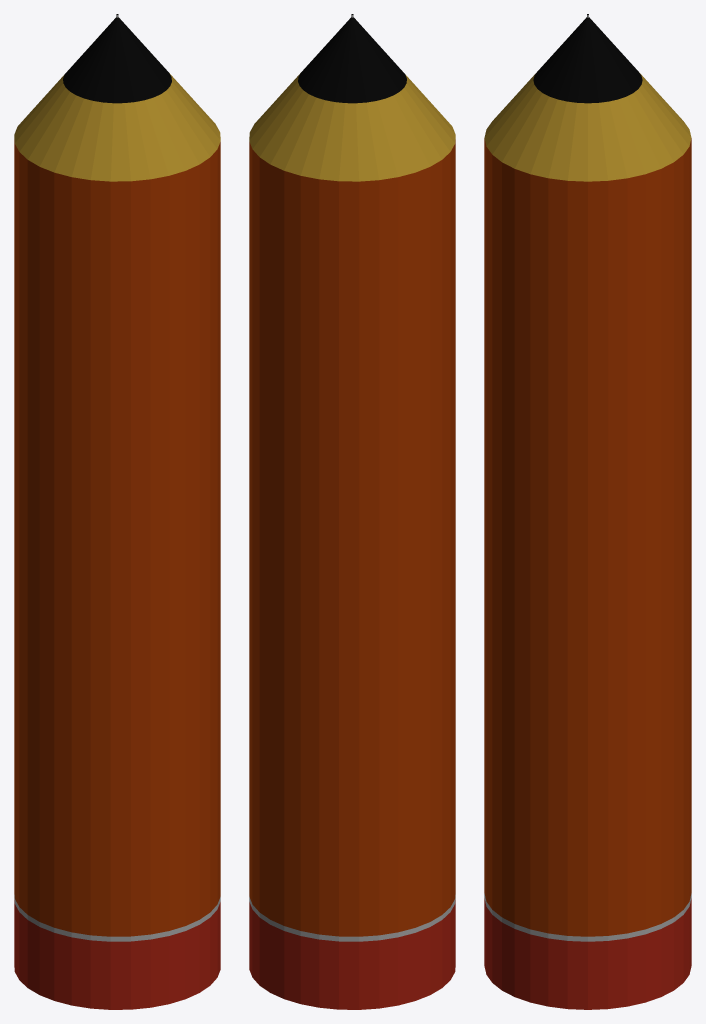
The model's file is bleistift.dae.
The picture shows the model from 3 angles, left to right: view 1: azimuth 30°, elevation 25°; view 2: azimuth 150°, elevation 25°; view 3: azimuth 270°, elevation 25°; orthographic projection.
Visible parts, largest first — view 1: Cylinder; view 2: Cylinder; view 3: Cylinder.
Boxes of the visible parts, box(x1,y1,x2,y2) form: Cylinder: box(14, 14, 220, 1009); Cylinder: box(249, 14, 455, 1009); Cylinder: box(484, 14, 691, 1009).
Size of the model in its own units: 11.16 by 56.58 by 11.16.
